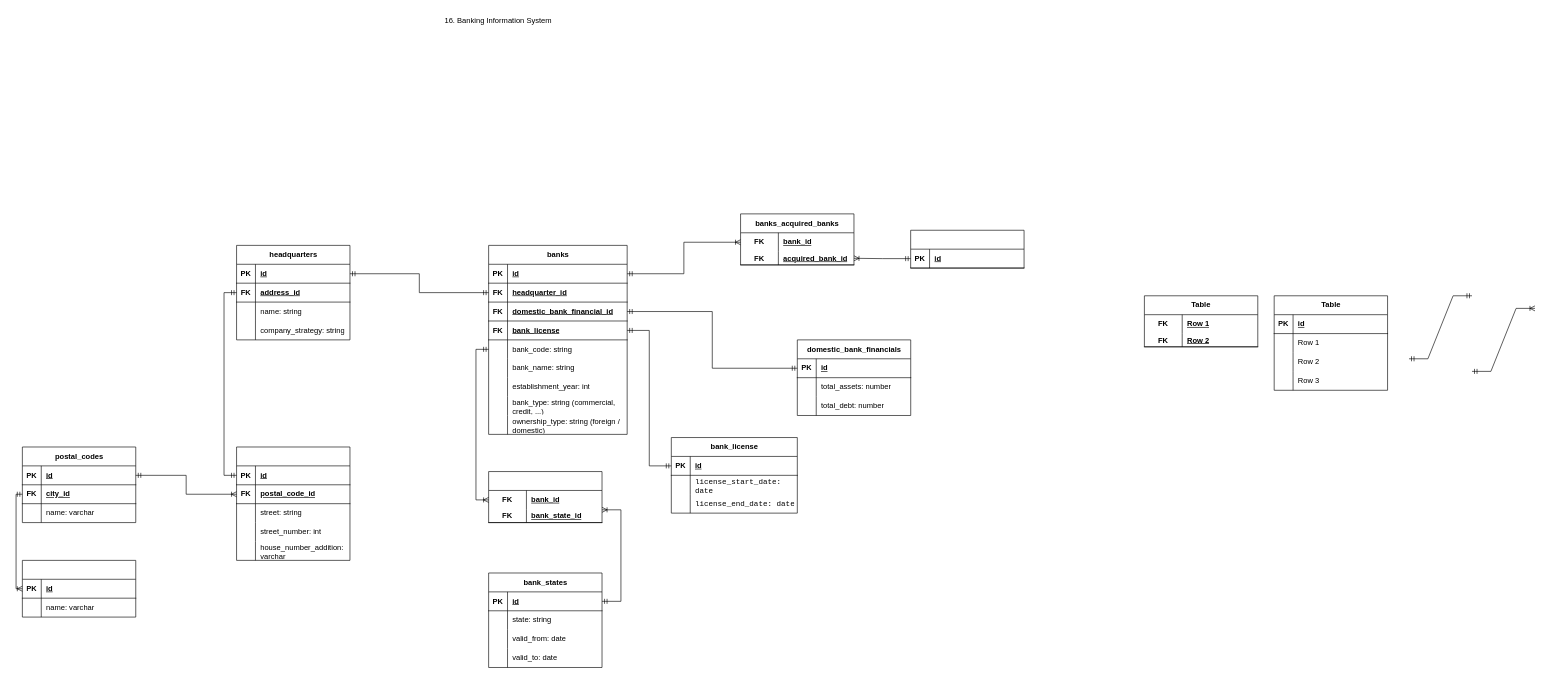
Some shapes in this 1552 by 679 pixel diagram are drawn without their labels. Each missing label, with the box of its shape:
acquired_banks: (910, 230, 1024, 268)
addresses: (236, 446, 350, 560)
banks_ bank_states: (488, 471, 602, 523)
cities: (22, 560, 136, 617)
